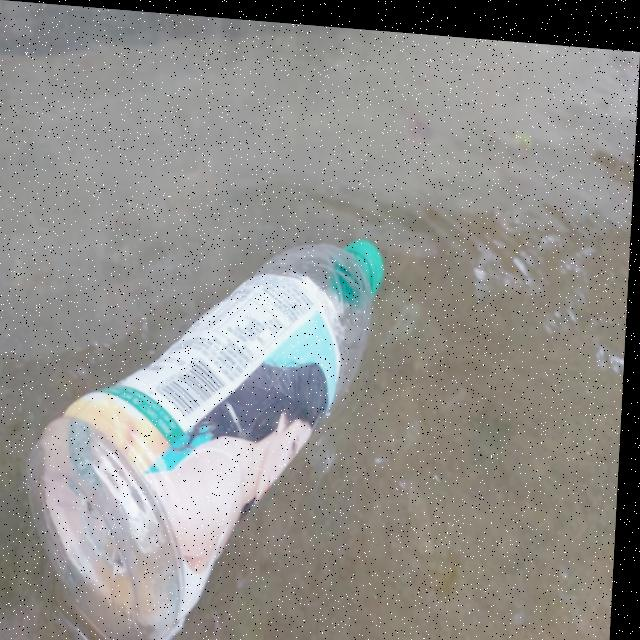waterbottle: (0, 186, 408, 640)
